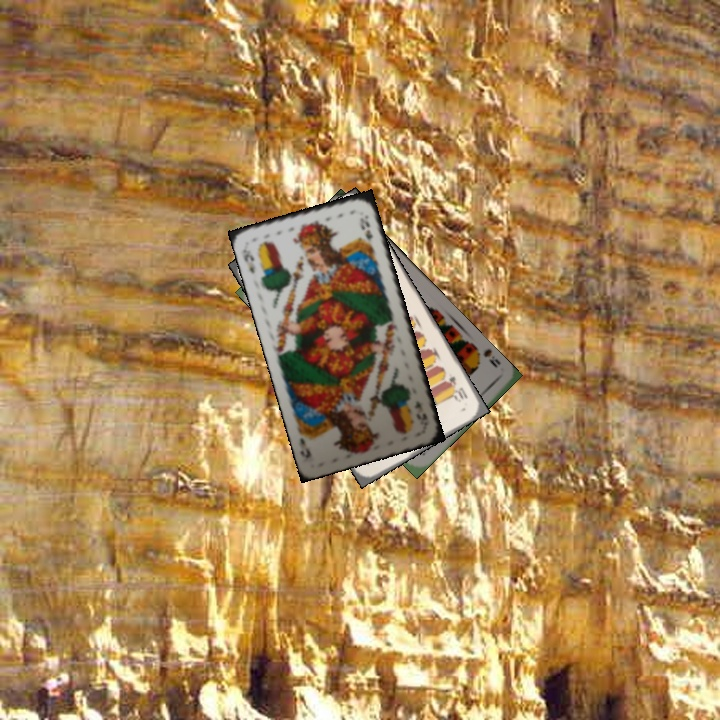E10: (443, 372, 470, 405)
EK: (238, 243, 258, 276), (410, 397, 428, 426)
S9: (469, 342, 503, 371)
